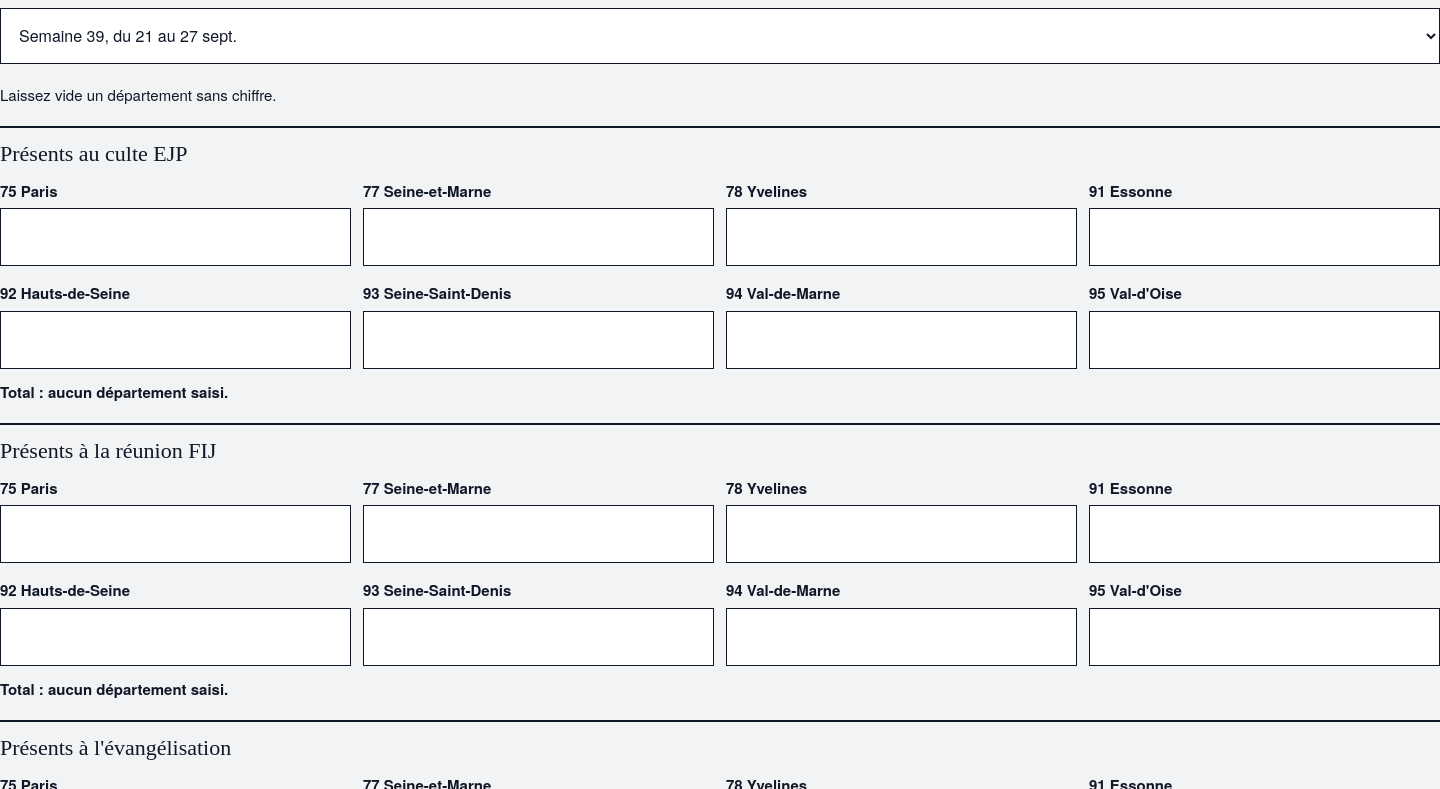
Test case: FormulaireStatistiquesFij › second appui après une réussite : rien n’est renvoyé
Type "12" into the field labelled "75 Paris" below "Présents au culte EJP" at (176, 237), box [0, 208, 351, 266]
(page scrolled)
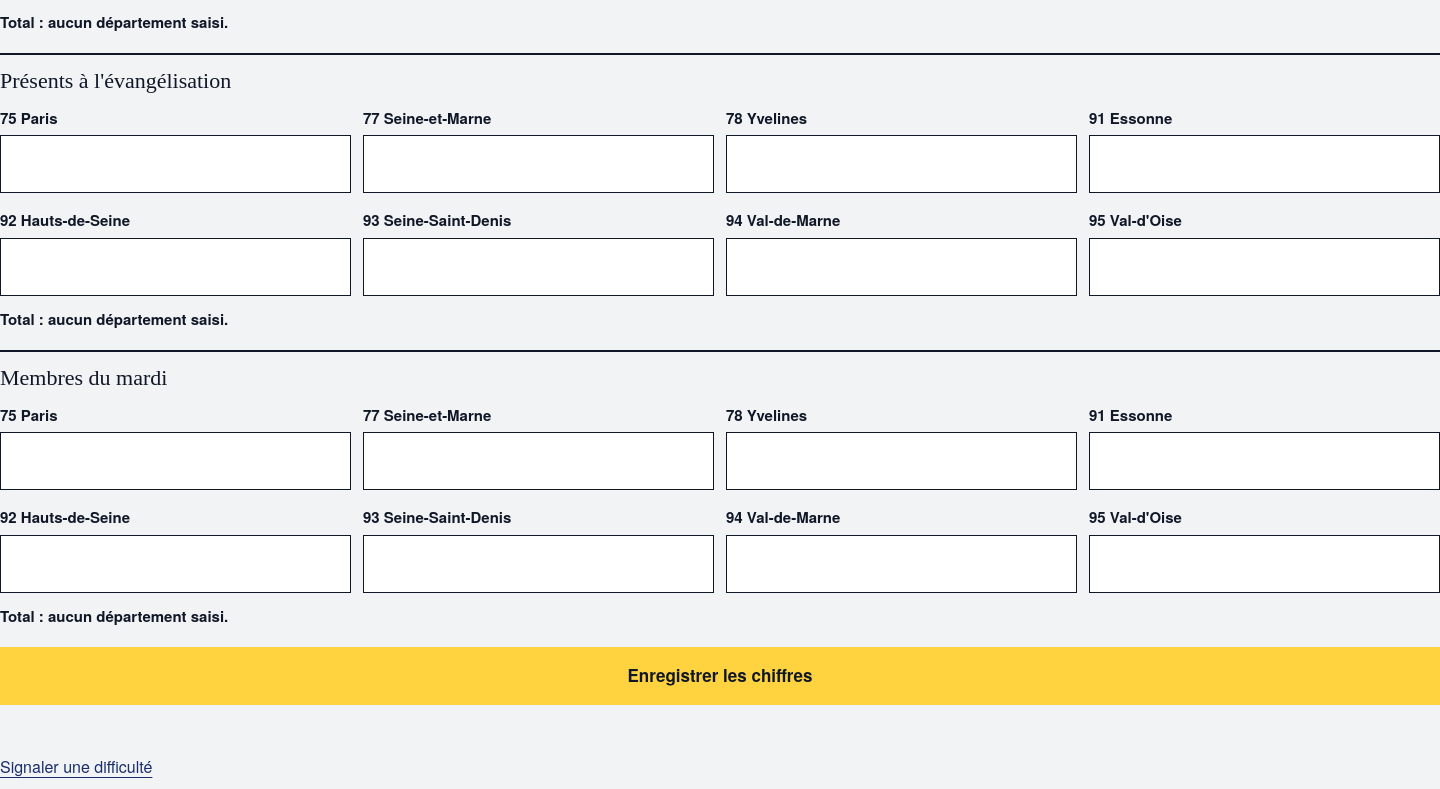
Click the button named "Enregistrer les chiffres" at (720, 676), box [0, 647, 1439, 705]
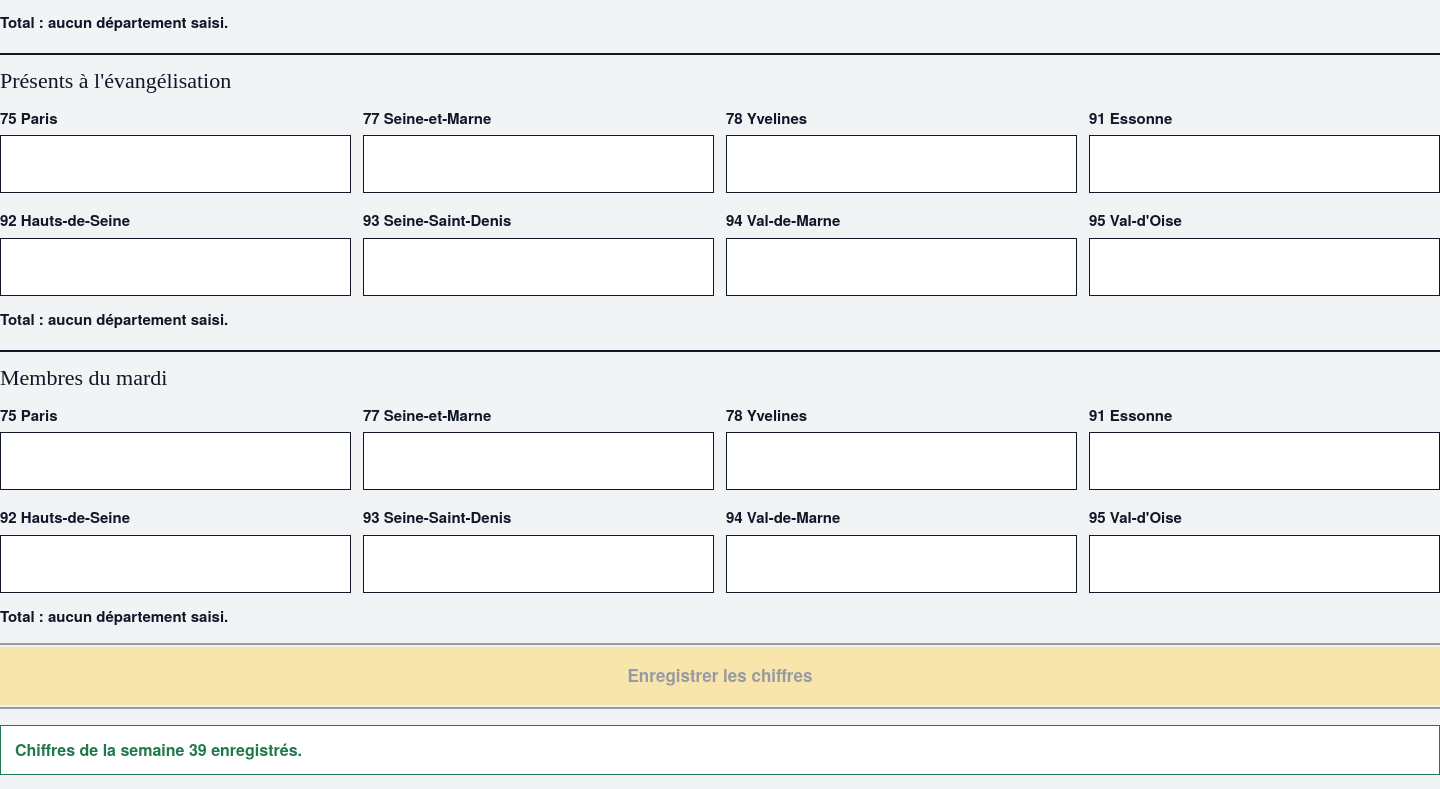
Expected: the text "Chiffres de la semaine 39 enregistrés." is shown, [0, 725, 1439, 775]
Click the button named "Enregistrer les chiffres" at (720, 676), box [0, 647, 1439, 705]
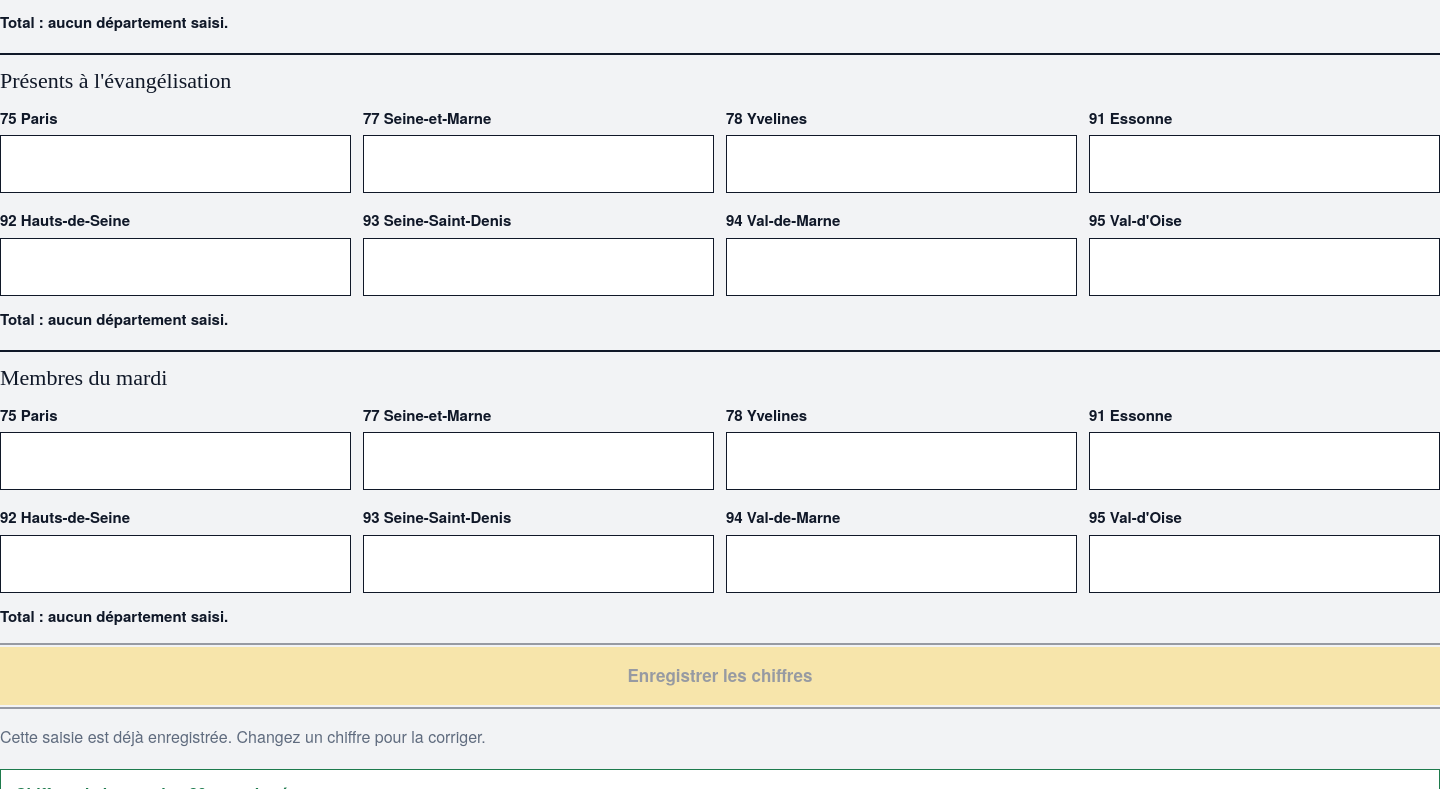
Expected: the text "Cette saisie est déjà enregistrée. Changez un chiffre pour la corriger." is shown, [0, 725, 486, 748]
